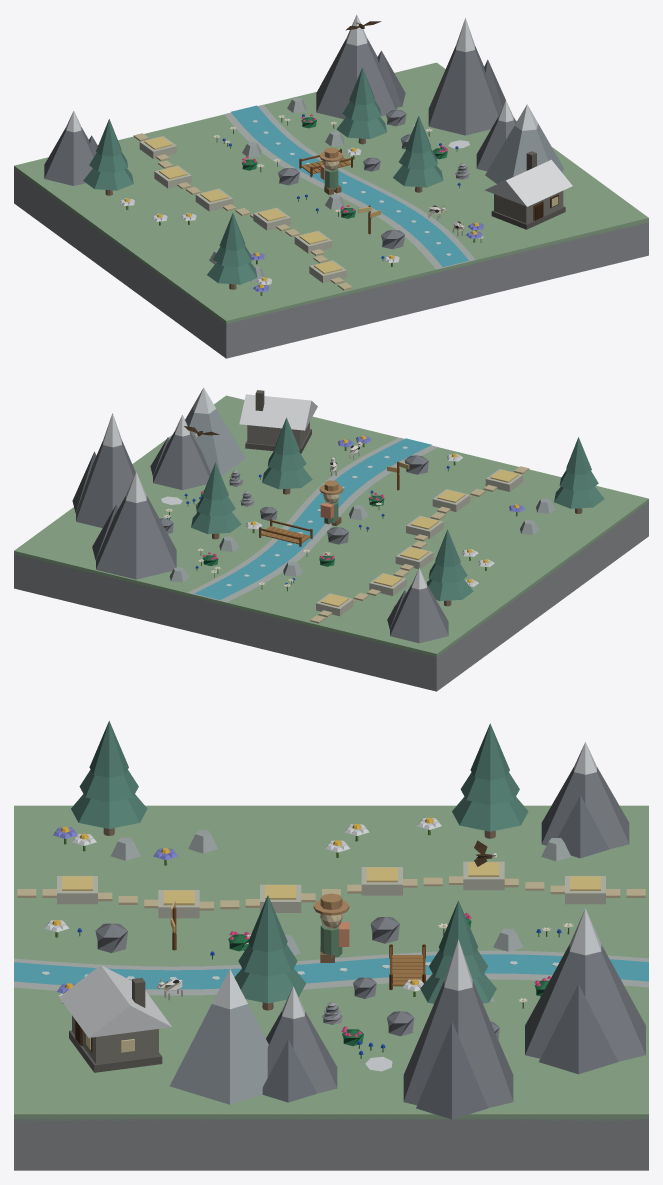
File: alpine-v1.glb
3 views of the same model, one above another, from view 1: azimuth 30°, elevation 25°; view 2: azimuth 150°, elevation 25°; view 3: azimuth 270°, elevation 25° (orthographic). The views are drawn at different scales.
Bounding box in the file's own units: 11.7 × 3.86 × 10.
